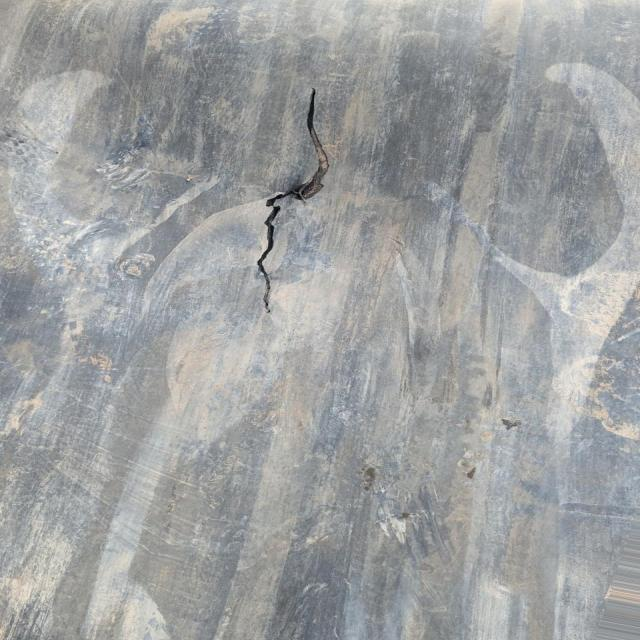Tear: (260, 84, 335, 309)
